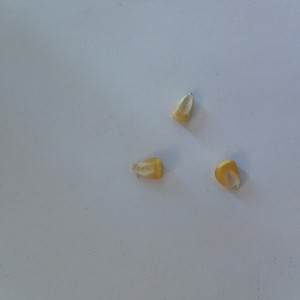maiz: (209, 156, 244, 193), (130, 155, 167, 181), (171, 90, 197, 123)
